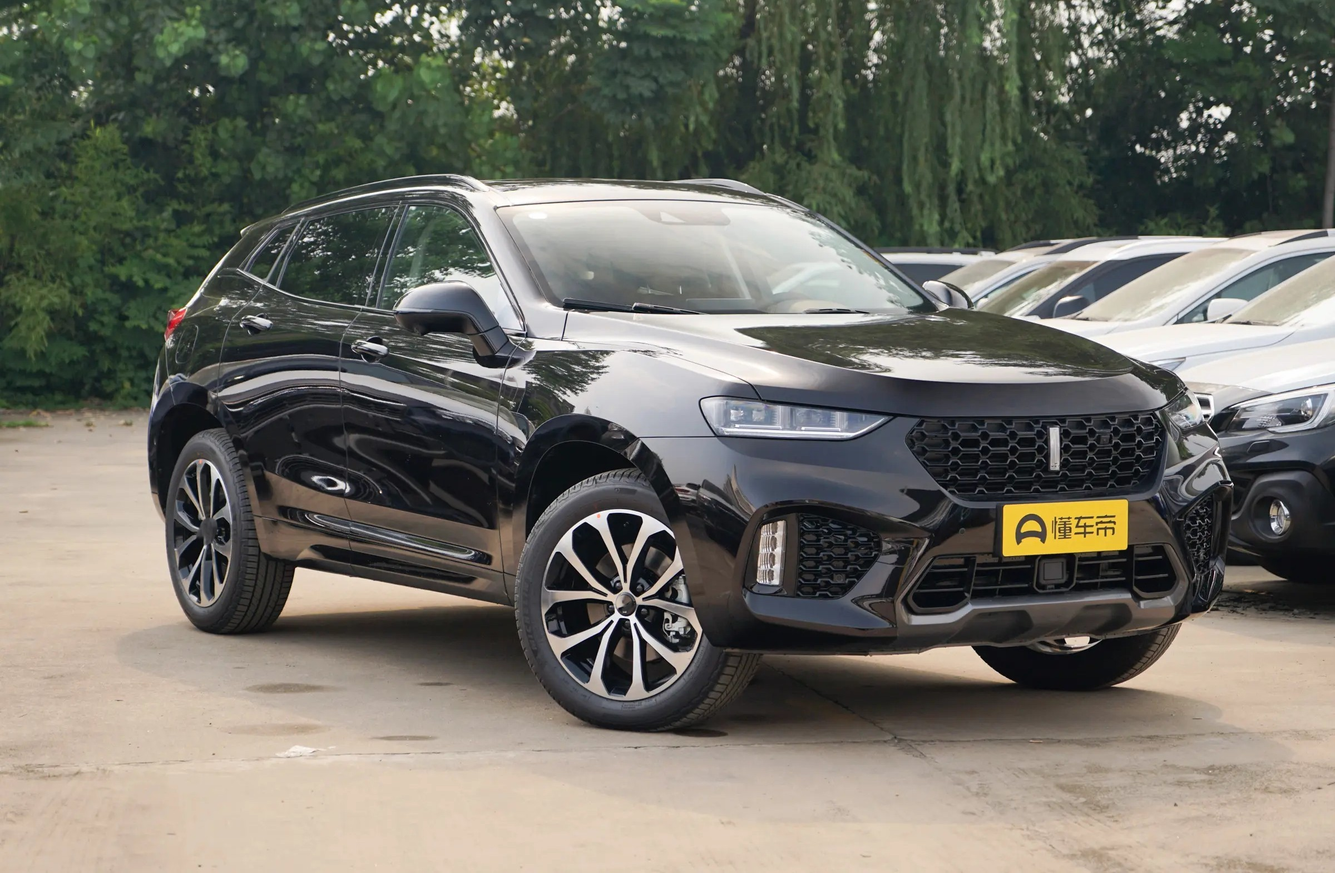WEY: (1050, 428, 1059, 470)
